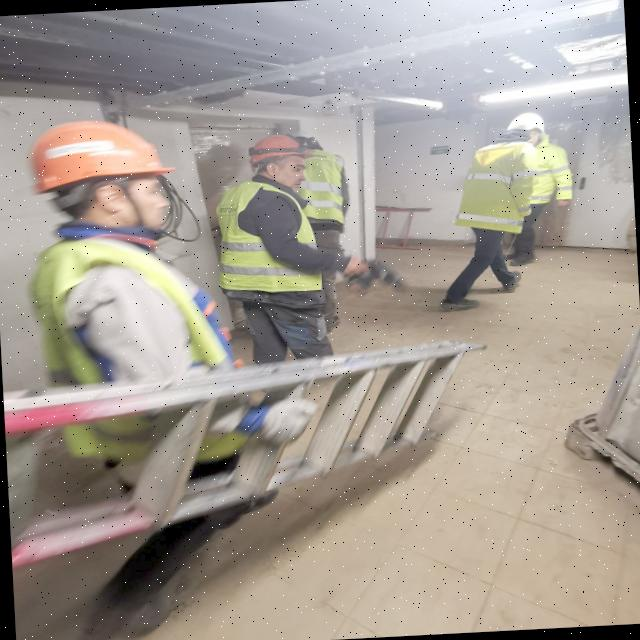Helmet: (28, 116, 182, 241), (248, 136, 313, 194), (501, 112, 548, 146)
